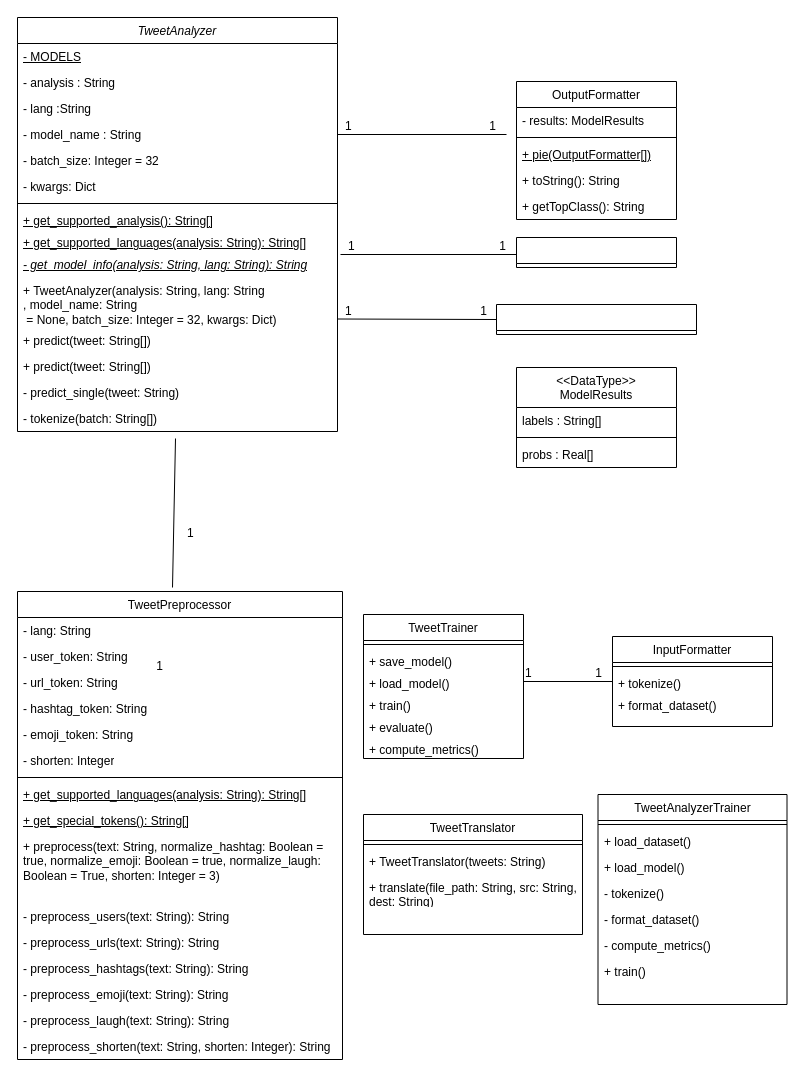
Image size: 805x1080. Some labels were removed from this diagram. Here are the shapes that lost their labels. From the top down, the centre of each, then its label:
At (x=596, y=252): "BertTokenizerFast".
At (x=596, y=319): "BertForSequenceClassification".
